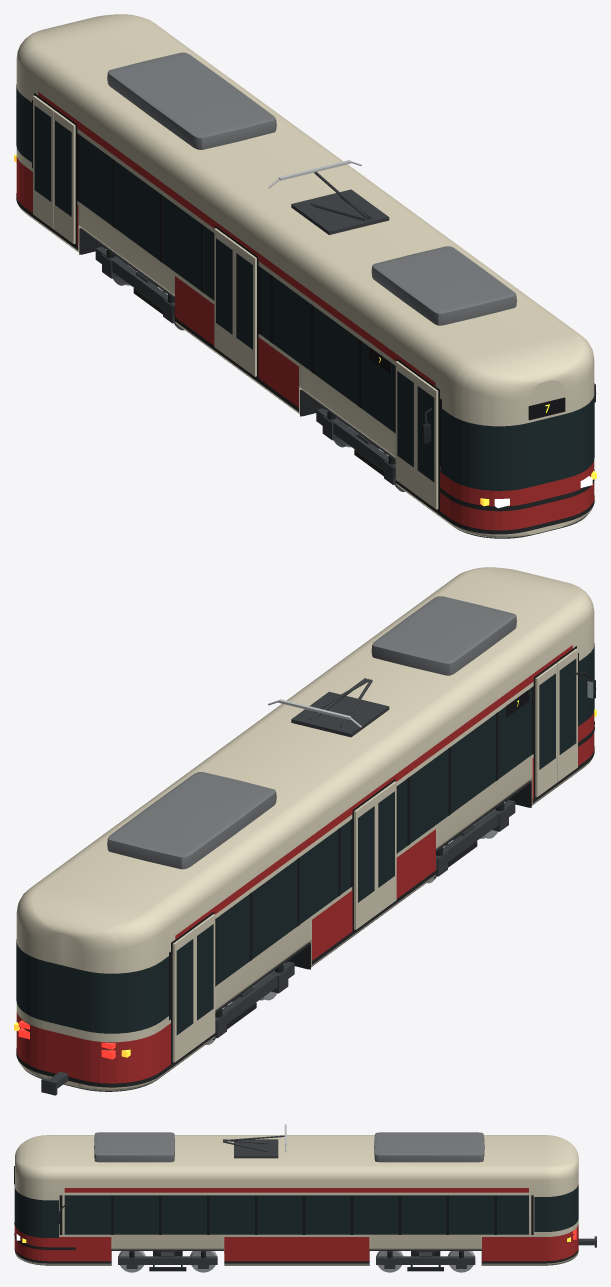
The model's file is PT_Tram_City.glb.
The picture shows the model from 3 angles, top to bottom: view 1: azimuth 30°, elevation 25°; view 2: azimuth 150°, elevation 25°; view 3: azimuth 270°, elevation 25°; orthographic projection. The views are drawn at different scales.
Visible parts, largest first — view 1: Body, Glass_Side, Roof_Equipment, Glass_Windscreen, Livery_Skirt, Livery_Roofline, Pantograph_Base, Pillar_R, Skirt_Edge, Door_3_B_Glass, Door_1_B_Glass, Door_2_B_Glass (+14 smaller); view 2: Body, Glass_Side, Roof_Equipment, Livery_Skirt, Glass_Rear, Livery_Roofline, Pantograph_Base, Pillar_R, Skirt_Edge, Door_3_B_Glass, Door_1_A_Glass, Door_1_B_Glass (+13 smaller); view 3: Body, Glass_Side, Livery_Skirt, Roof_Equipment, Livery_Roofline, Glass_Windscreen, Glass_Rear, Pillar_L, Skirt_Edge, Bogie_R_Frame, Bogie_F_Frame, Pantograph_Base (+9 smaller).
Part boxes in pixels (<box>): Body: <box>16,14,594,537</box>; Glass_Side: <box>79,134,394,432</box>; Roof_Equipment: <box>107,52,516,325</box>; Glass_Windscreen: <box>440,392,594,490</box>; Livery_Skirt: <box>16,156,594,530</box>; Livery_Roofline: <box>38,92,435,386</box>; Pantograph_Base: <box>291,189,389,234</box>; Pillar_R: <box>32,100,441,467</box>; Skirt_Edge: <box>16,193,594,534</box>; Door_3_B_Glass: <box>34,105,51,201</box>; Door_1_B_Glass: <box>397,371,413,467</box>; Door_2_B_Glass: <box>216,238,232,334</box>; Body: <box>16,567,594,1090</box>; Glass_Side: <box>216,687,531,985</box>; Roof_Equipment: <box>107,596,516,869</box>; Livery_Skirt: <box>16,711,594,1083</box>; Glass_Rear: <box>16,939,168,1033</box>; Livery_Roofline: <box>175,645,572,939</box>; Pantograph_Base: <box>291,691,389,737</box>; Pillar_R: <box>169,653,578,1020</box>; Skirt_Edge: <box>16,746,594,1087</box>; Door_3_B_Glass: <box>176,939,193,1035</box>; Door_1_A_Glass: <box>559,658,576,754</box>; Door_1_B_Glass: <box>539,673,555,769</box>; Body: <box>15,1135,578,1264</box>; Glass_Side: <box>64,1195,528,1234</box>; Livery_Skirt: <box>14,1224,578,1261</box>; Roof_Equipment: <box>94,1132,484,1162</box>; Livery_Roofline: <box>64,1188,528,1192</box>; Glass_Windscreen: <box>14,1184,58,1237</box>; Glass_Rear: <box>534,1184,578,1231</box>; Pillar_L: <box>59,1195,533,1234</box>; Skirt_Edge: <box>14,1248,578,1263</box>; Bogie_R_Frame: <box>376,1251,475,1264</box>; Bogie_F_Frame: <box>118,1251,217,1264</box>; Pantograph_Base: <box>234,1139,278,1158</box>.
Size of the model in its own units: 3.16 by 3.76 by 15.82.
